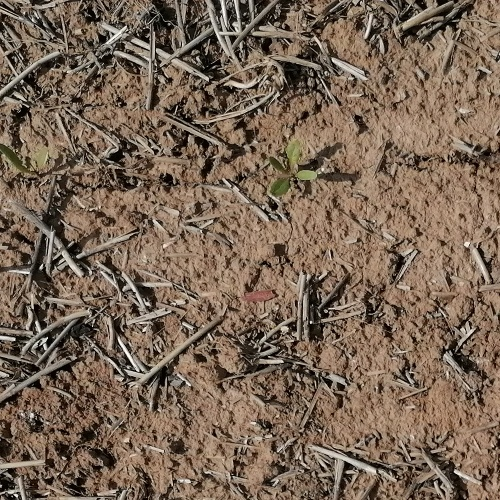beet: (269, 140, 316, 197)
